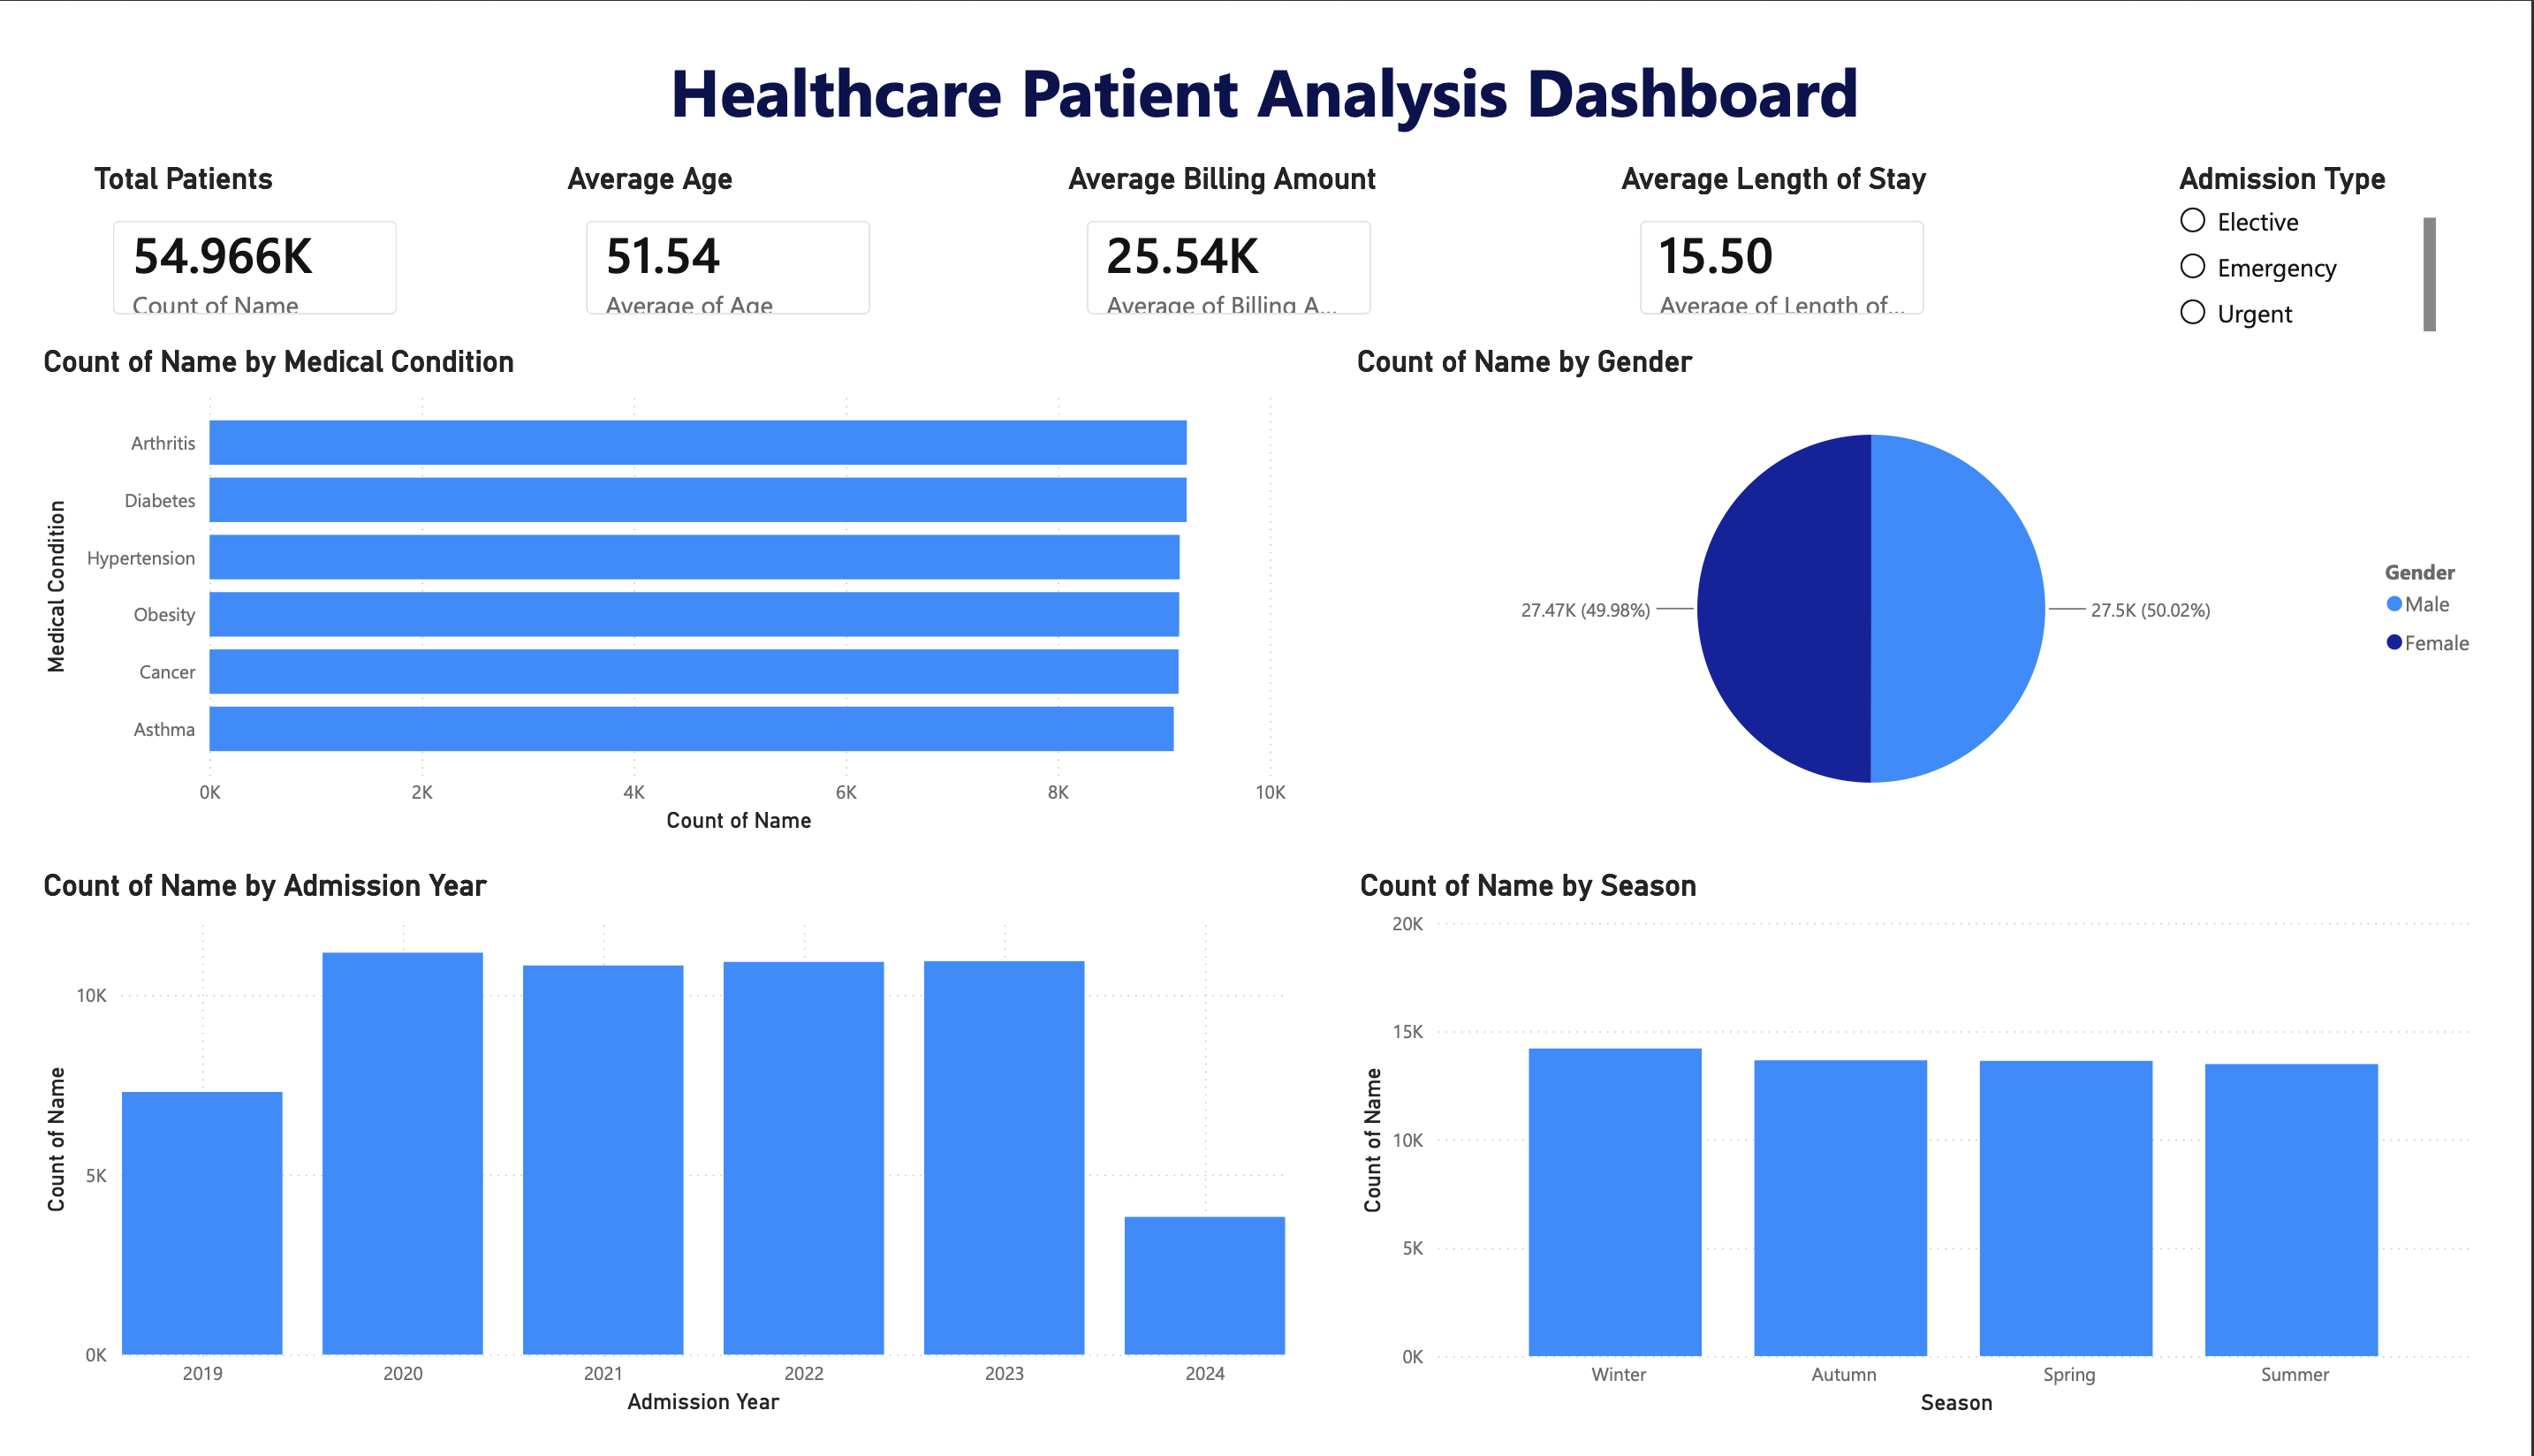

What the dashboard file says about the page in this screenshot:
{"tool":"powerbi","page":{"name":"Page 1","canvas":[1600,900],"ordinal":0},"visuals":[{"type":"cardVisual","title":"Total Patients","fields":{"Data":["CountNonNull(healthcare_cleaned.Name)"]},"box":[33.3,80.4,219.6,117.6],"z":0},{"type":"cardVisual","title":"Average Age","fields":{"Data":["Avg(healthcare_cleaned.Age)"]},"box":[341.2,80.4,219.6,117.6],"z":1},{"type":"cardVisual","title":"Average Billing  Amount","fields":{"Data":["Avg(healthcare_cleaned.Billing Amount)"]},"box":[666.7,80.4,219.6,117.6],"z":2},{"type":"cardVisual","title":"Average Length of Stay","fields":{"Data":["Avg(healthcare_cleaned.Length of Stay)"]},"box":[1027.5,80.4,219.6,117.6],"z":3},{"type":"clusteredBarChart","fields":{"Category":["healthcare_cleaned.Medical Condition"],"Y":["CountNonNull(healthcare_cleaned.Name)"]},"box":[0,198.5,817.9,323.9],"z":4},{"type":"pieChart","fields":{"Category":["healthcare_cleaned.Gender"],"Y":["CountNonNull(healthcare_cleaned.Name)"]},"box":[855.2,198.5,744.8,323.9],"z":5},{"type":"clusteredColumnChart","fields":{"Category":["healthcare_cleaned.Admission Year"],"Y":["CountNonNull(healthcare_cleaned.Name)"]},"box":[0,540.2,817.8,360.1],"z":6},{"type":"textbox","box":[0,0,1600,80.7],"z":7},{"type":"clusteredColumnChart","fields":{"Category":["healthcare_cleaned.Season"],"Y":["CountNonNull(healthcare_cleaned.Name)"]},"box":[856.7,540.3,735.8,361.2],"z":8},{"type":"listSlicer","fields":{"Values":["healthcare_cleaned.Admission Type"]},"box":[1390.2,80.4,176.5,117.6],"z":9}]}

Visuals, with their boxes in screenshot pixels (x1, y1, x2, y2), scaled from the page's 1600x900 canvas onto the 2534x1456 screenshot:
"Total Patients" cardVisual: 53, 130, 400, 321
"Average Age" cardVisual: 541, 130, 888, 321
"Average Billing  Amount" cardVisual: 1056, 130, 1404, 321
"Average Length of Stay" cardVisual: 1627, 130, 1975, 321
clusteredBarChart - healthcare_cleaned.Medical Condition x CountNonNull(healthcare_cleaned.Name): 0, 321, 1295, 846
pieChart - healthcare_cleaned.Gender x CountNonNull(healthcare_cleaned.Name): 1354, 321, 2533, 846
clusteredColumnChart - healthcare_cleaned.Admission Year x CountNonNull(healthcare_cleaned.Name): 0, 874, 1295, 1455
textbox: 0, 0, 2533, 131
clusteredColumnChart - healthcare_cleaned.Season x CountNonNull(healthcare_cleaned.Name): 1357, 874, 2523, 1455
listSlicer - healthcare_cleaned.Admission Type: 2202, 130, 2481, 321
